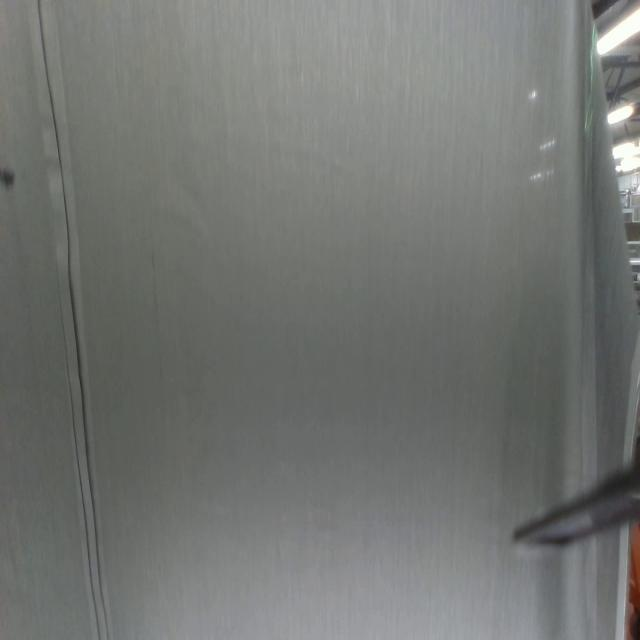crease: (30, 1, 110, 640)
hole: (0, 166, 17, 190)
